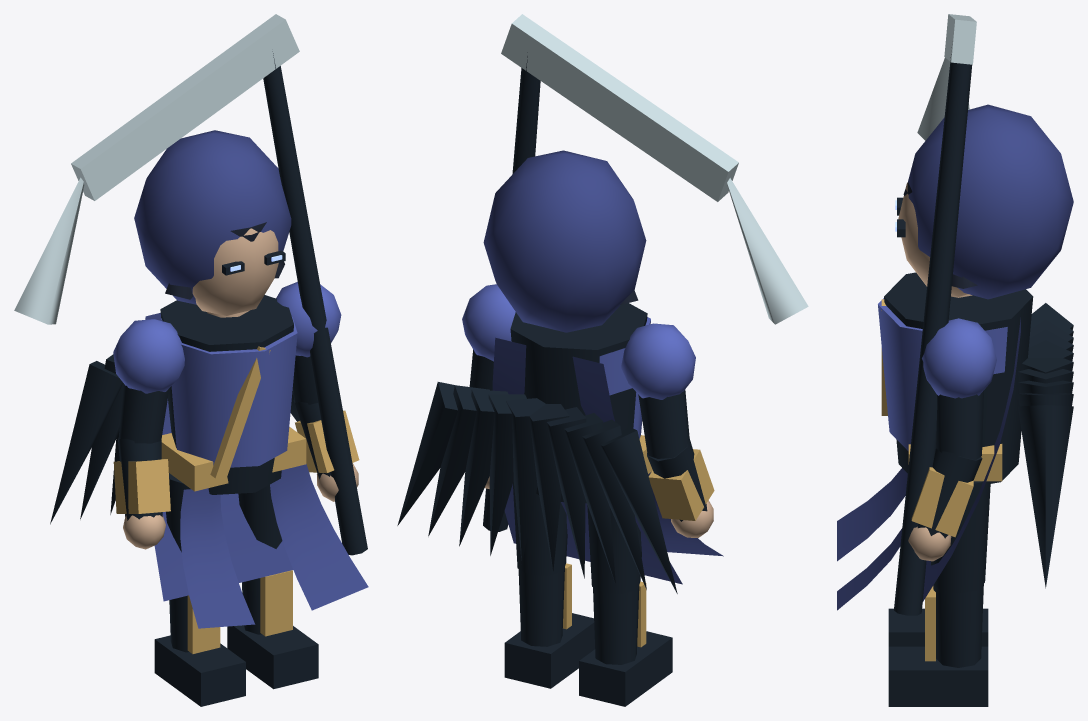
The model's file is raven.glb.
3 views of the same model, side by side, from view 1: azimuth 30°, elevation 25°; view 2: azimuth 150°, elevation 25°; view 3: azimuth 270°, elevation 25° (orthographic). The views are drawn at different scales.
Visible parts, largest first — view 1: torso, weapon-scythe, head, knee-1, shoulder--1, knee--1, feather (×2), cape, elbow--1, shoulder-1, elbow-1, leg-1 (+2 smaller); view 2: feather (×10), head, weapon-scythe, torso, knee--1, knee-1, shoulder--1, cape, elbow--1, shoulder-1, leg--1, leg-1 (+1 smaller); view 3: head, torso, weapon-scythe, feather (×8), knee-1, shoulder-1, elbow-1, leg-1, knee--1, cape, hand-1.
Part boxes in pixels (x1,y1,x2,y2): torso: (160,295,368,628); weapon-scythe: (14,14,367,555); head: (134,130,291,315); knee-1: (227,570,318,689); shoulder--1: (113,319,184,443); knee--1: (154,595,245,706); feather (×2): (50,354,123,524); cape: (145,313,293,601); elbow--1: (113,438,170,520); shoulder-1: (276,282,341,404); elbow-1: (293,400,359,479); leg-1: (238,484,282,548); feather (×10): (397,382,677,593); head: (483,150,646,332); weapon-scythe: (483,14,808,531); torso: (510,303,723,556); knee--1: (579,581,672,706); knee-1: (504,563,594,688); shoulder--1: (621,323,695,458); cape: (492,337,682,584); elbow--1: (647,438,714,521); shoulder-1: (462,284,515,390); leg--1: (587,505,641,593); leg-1: (513,482,567,575); head: (895,104,1073,299); torso: (837,272,1033,610); weapon-scythe: (894,14,976,615); feather (×8): (1018,319,1073,588); knee-1: (888,584,988,706); shoulder-1: (922,318,996,460); elbow-1: (911,448,982,538); leg-1: (931,481,990,593); knee--1: (888,608,988,646); cape: (922,317,1020,601); hand-1: (908,526,951,561).
Bounding box in the file's own units: 1.42 × 2.43 × 0.76.
